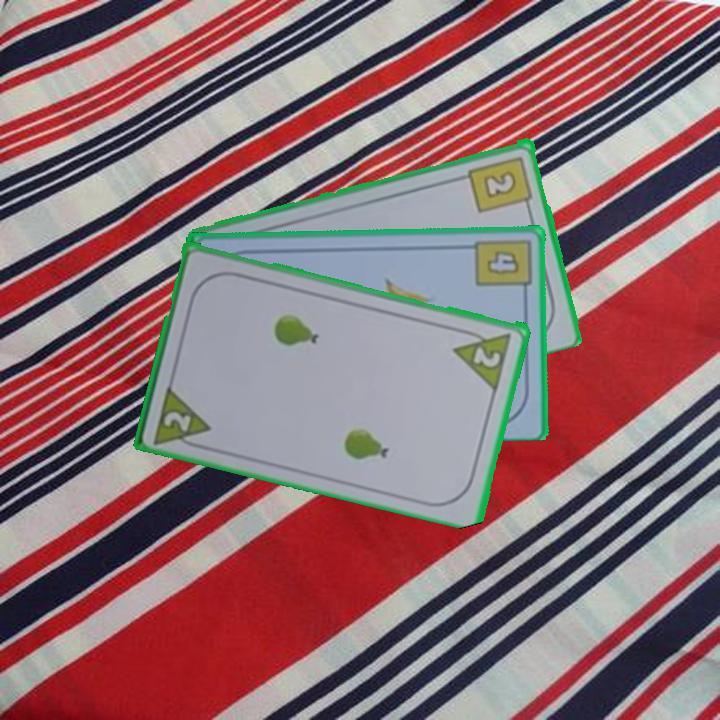2b: (465, 152, 536, 215)
2p: (150, 380, 214, 453), (450, 324, 515, 392)
4b: (472, 235, 534, 299)
